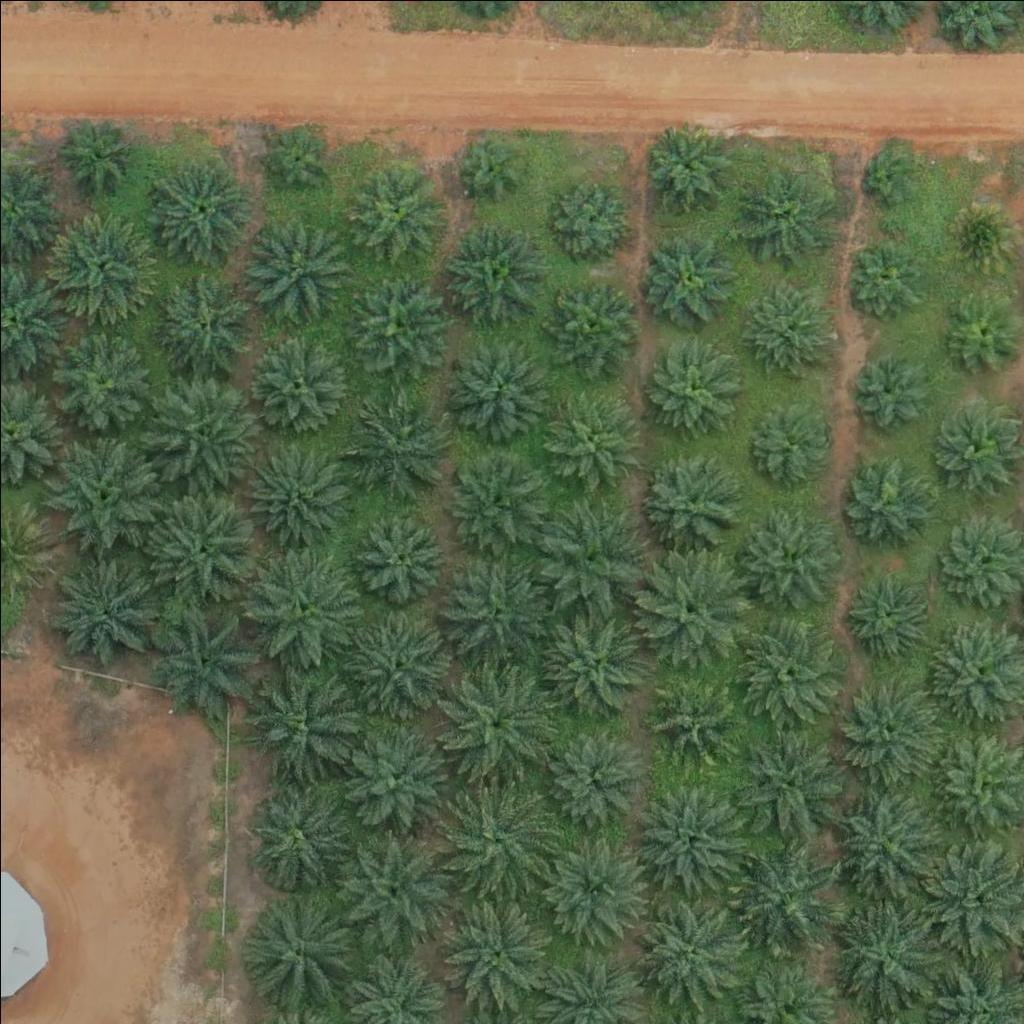Kelapa_Sawit: (42, 552, 155, 666), (44, 436, 157, 550), (144, 601, 257, 715), (627, 889, 740, 1002), (534, 830, 647, 943), (243, 890, 356, 1003), (439, 663, 552, 776), (440, 558, 553, 671), (537, 609, 650, 722), (828, 786, 941, 899), (439, 891, 551, 1005), (336, 830, 448, 944), (145, 495, 257, 609), (242, 662, 354, 776), (43, 203, 155, 316), (833, 900, 945, 1013), (732, 840, 844, 953), (444, 783, 556, 896), (148, 371, 260, 484), (245, 549, 357, 662), (341, 604, 453, 717), (532, 502, 644, 615), (634, 553, 746, 666), (735, 614, 847, 727), (339, 719, 451, 832), (635, 786, 747, 899), (731, 727, 843, 840), (152, 267, 252, 368), (148, 160, 248, 261), (246, 444, 346, 545), (245, 331, 345, 432), (245, 222, 345, 323), (346, 399, 446, 500), (344, 273, 444, 374), (344, 161, 444, 262), (438, 449, 538, 550), (444, 341, 544, 442), (443, 219, 543, 320), (537, 392, 637, 493), (538, 275, 638, 376), (639, 450, 739, 551), (640, 334, 740, 435), (736, 506, 836, 607), (839, 684, 939, 785), (246, 784, 346, 884), (51, 328, 151, 428), (637, 118, 737, 218), (731, 168, 831, 268), (648, 676, 736, 765), (544, 174, 632, 262), (930, 403, 1018, 491), (357, 510, 444, 598), (640, 234, 727, 322), (746, 403, 833, 491), (744, 291, 831, 379), (847, 573, 934, 661), (841, 454, 928, 542), (548, 734, 635, 822), (943, 290, 1018, 366), (853, 351, 928, 427), (451, 127, 526, 203), (846, 242, 921, 318), (942, 201, 1017, 277), (59, 114, 134, 189), (255, 120, 330, 195), (857, 142, 919, 205)
